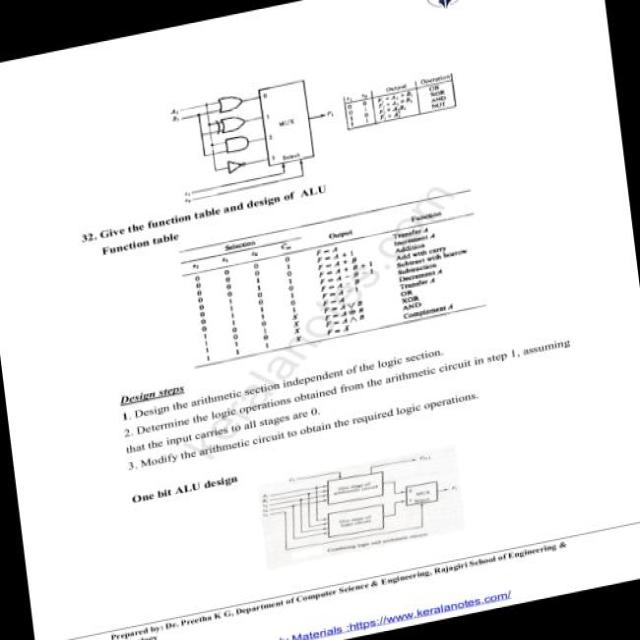Figure Detection - v3 Dataset Version2: (152, 32, 474, 211), (249, 432, 474, 578)
